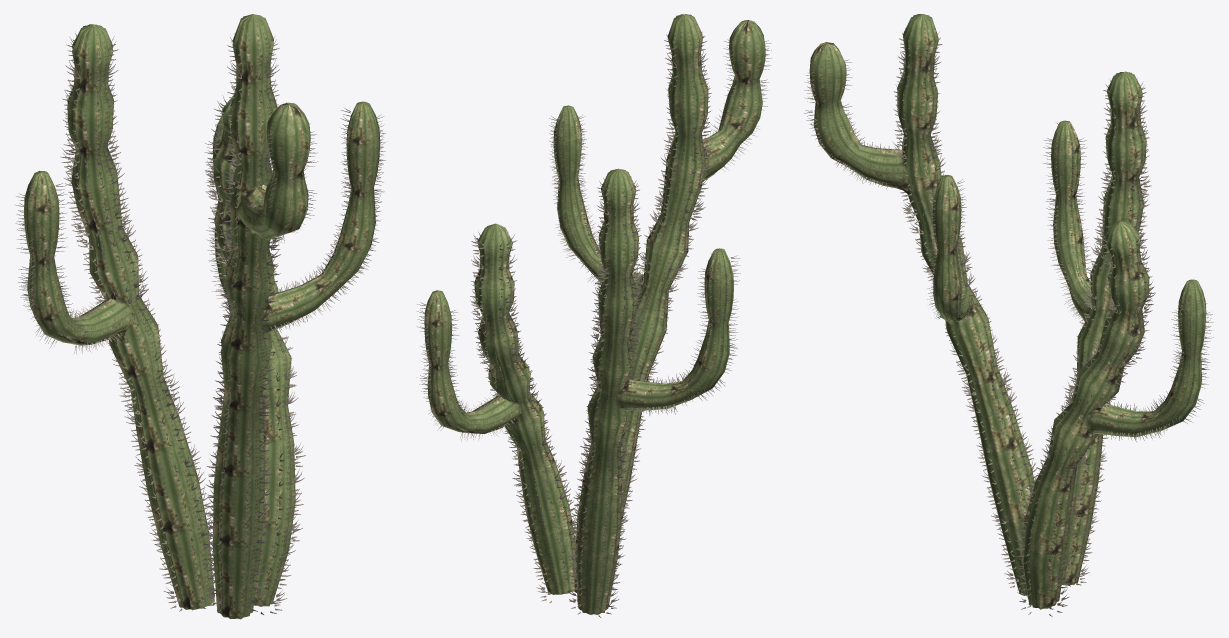
Rendered from Cactus2.glb.
3 views of the same model, side by side, from view 1: azimuth 30°, elevation 25°; view 2: azimuth 150°, elevation 25°; view 3: azimuth 270°, elevation 25° (orthographic). The views are drawn at different scales.
Parts seen in each view (by area): view 1: Tree_0, Tree_1; view 2: Tree_0, Tree_1; view 3: Tree_0, Tree_1.
Boxes of the visible parts, x1,y1,x2,y2 form: Tree_0: [24, 14, 380, 619]; Tree_1: [15, 33, 385, 616]; Tree_0: [424, 14, 765, 614]; Tree_1: [417, 31, 771, 617]; Tree_0: [809, 14, 1206, 609]; Tree_1: [804, 28, 1213, 616].
Bounding box in the file's own units: 1.28 × 2.67 × 1.76.
Materials: 2 (2 with a texture image).
